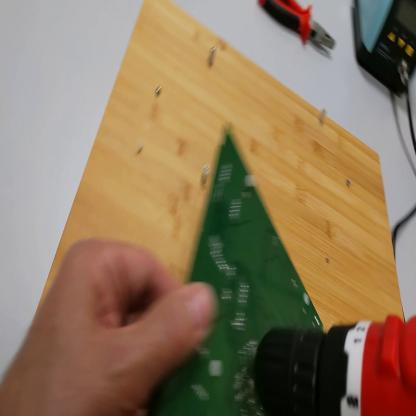electric screwdriver: (246, 314, 416, 416)
hand: (2, 238, 217, 415)
low voltage board: (162, 121, 327, 416)
pliers: (260, 3, 338, 54)
welder station: (354, 2, 416, 101)
working area: (32, 3, 407, 336)
